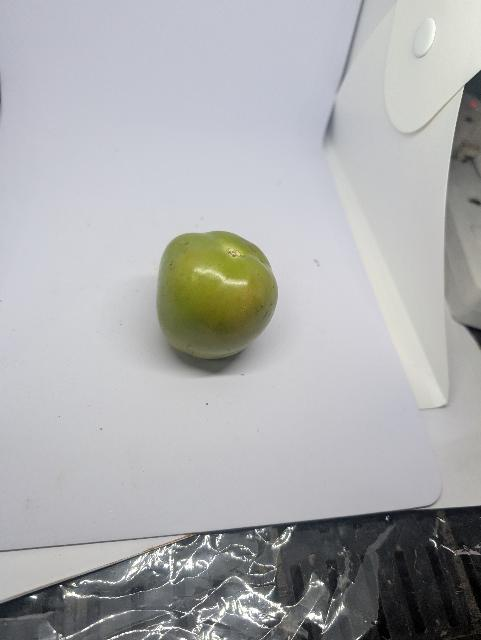green: (154, 229, 282, 361)
